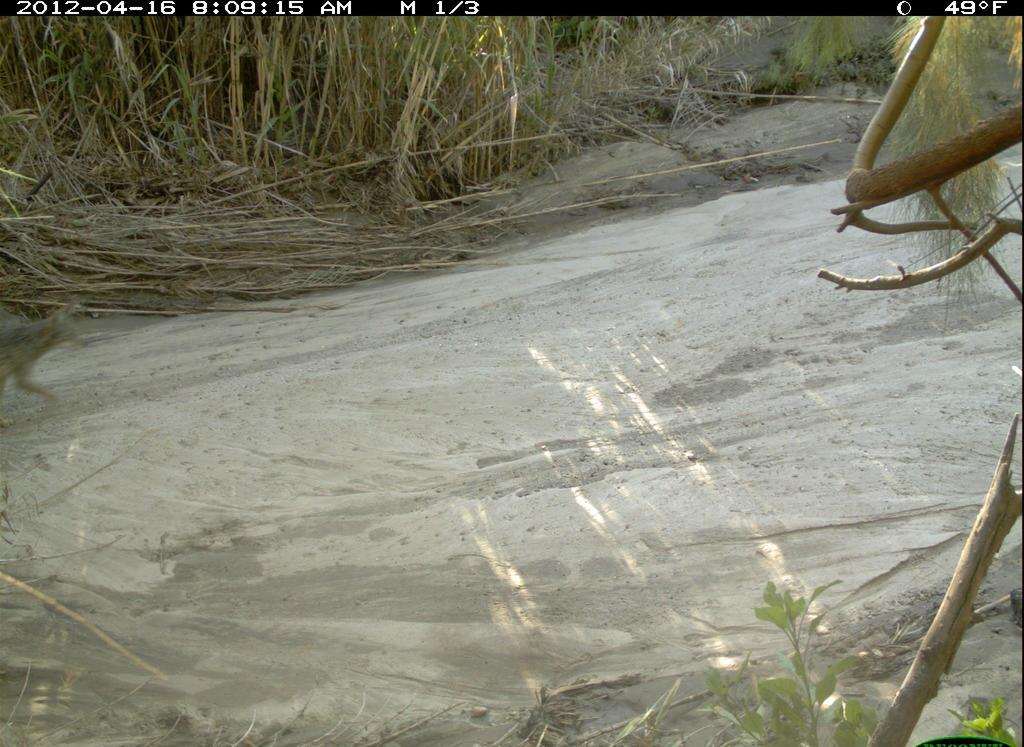coyote: (3, 291, 93, 413)
